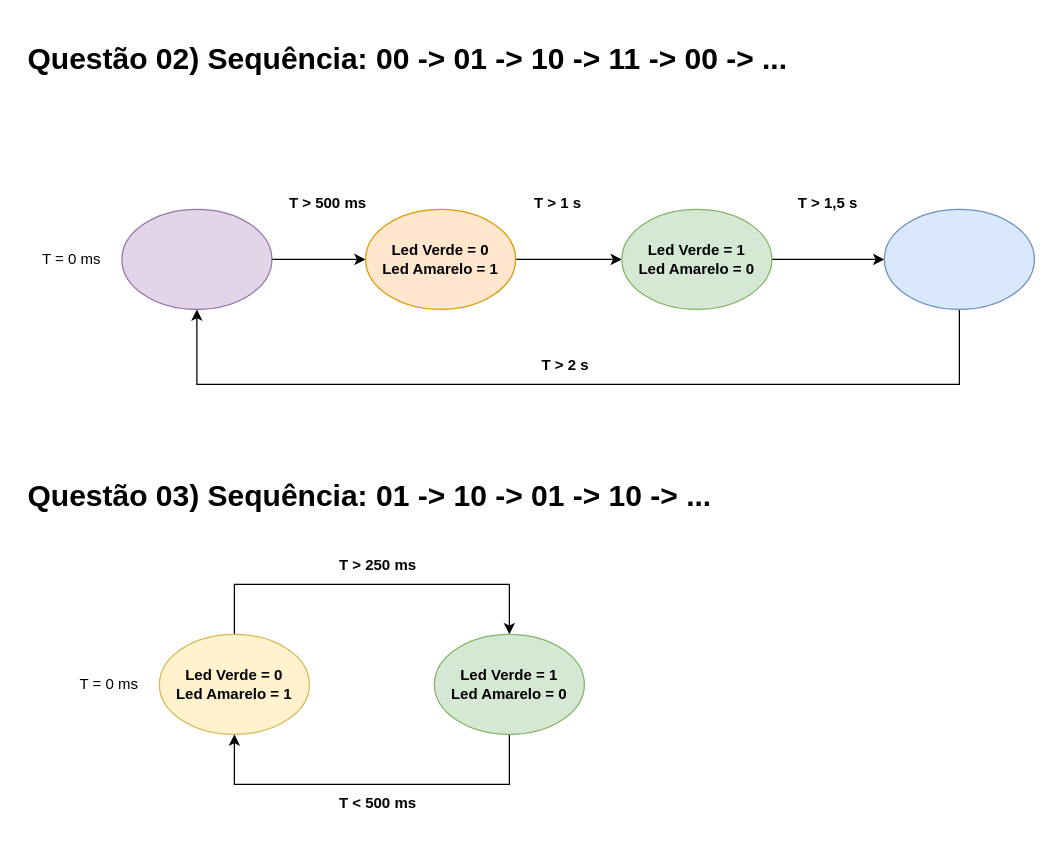
This 1056x843 diagram has some shape labels left out. Each missing label, with the box of its shape:
Led Verde = 0 Led Amarelo = 0: (121, 208, 272, 309)
Led Verde = 1 Led Amarelo = 1: (883, 208, 1034, 309)
